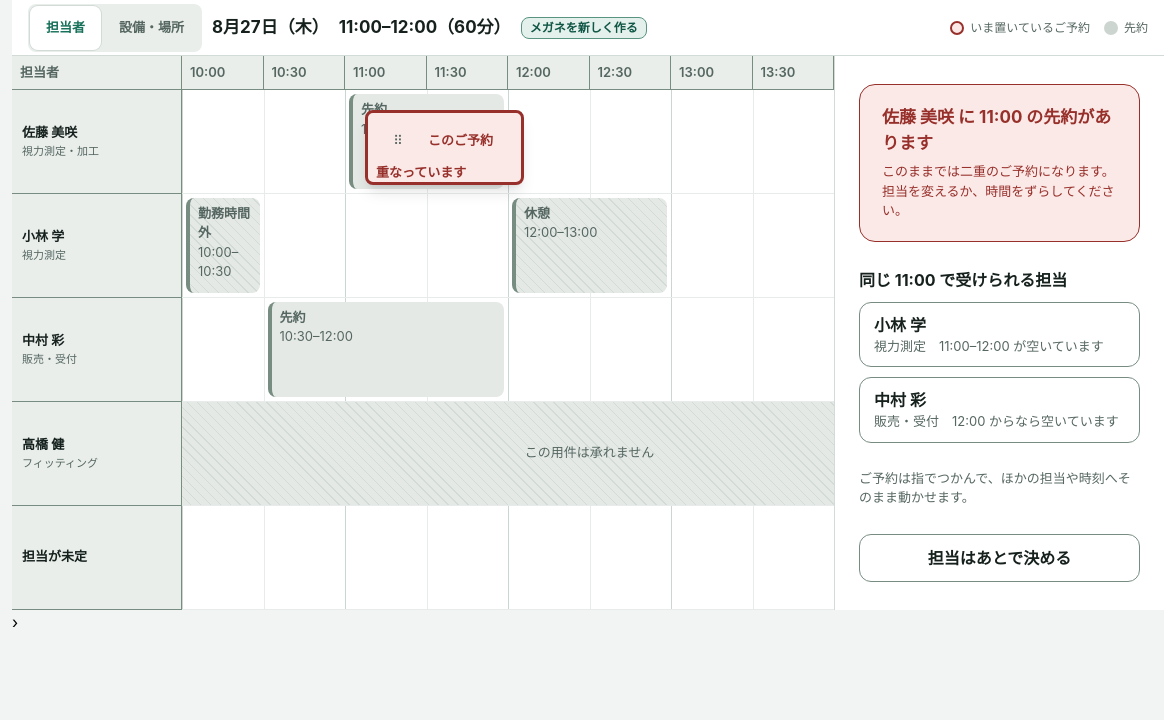
Scenario: ドラッグ › 指を離すとその担当・時刻で確保され、押さえを取り直す
The width and height of the screenshot is (1164, 720).
Press the mouse on the button named "ご予約をつかんで動かす" at [398, 141], box [376,119,420,163]
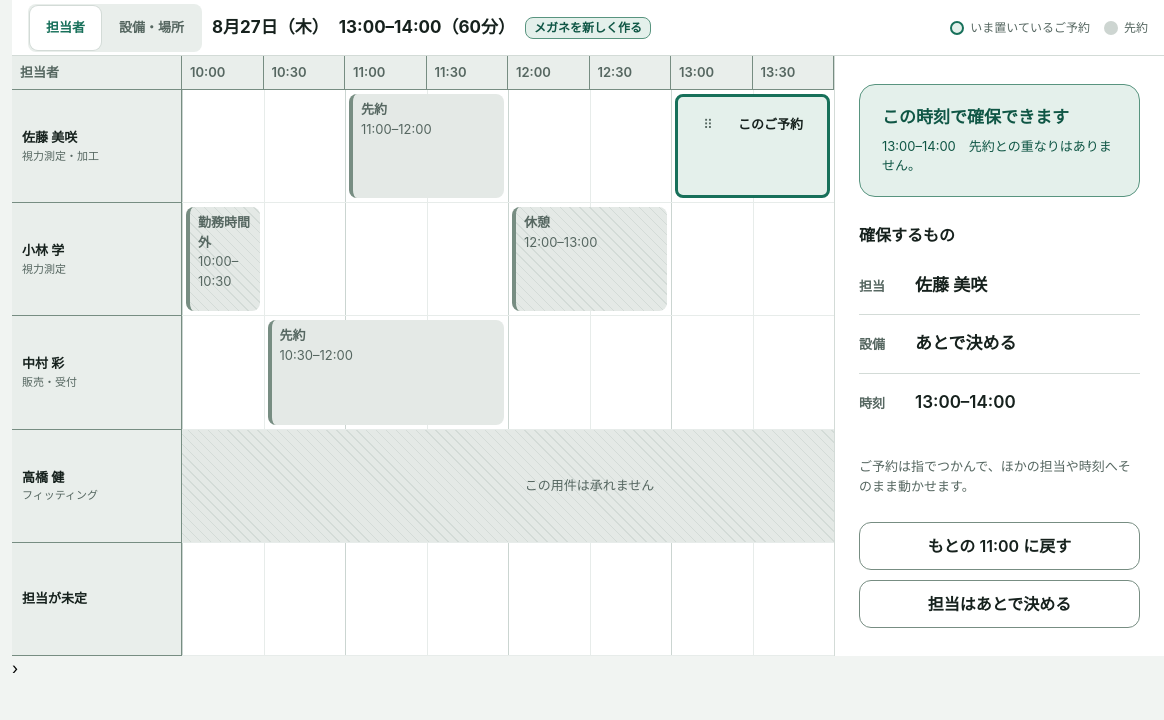
Check: the text "このご予約" is shown, box [738,115,803,135]
Check: the heading "確保するもの" is shown, box [859,224,955,244]
